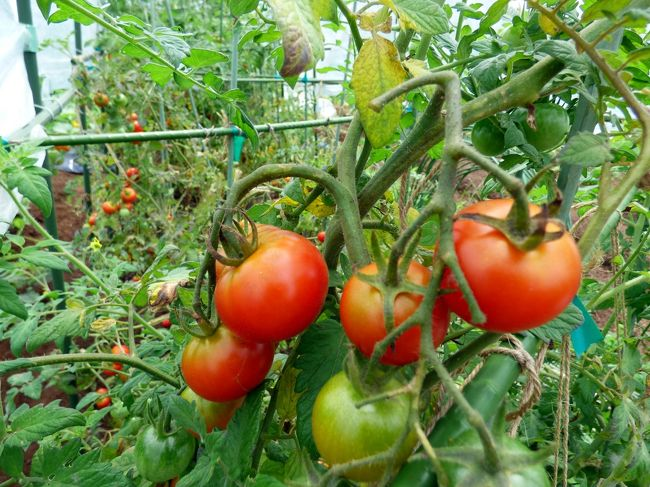stems: (432, 352, 500, 469), (461, 139, 532, 231), (362, 309, 420, 388), (386, 197, 436, 284), (190, 255, 208, 333)
tomato: (438, 195, 580, 334), (215, 224, 329, 342), (312, 364, 424, 482), (340, 255, 452, 365), (183, 320, 277, 401)
